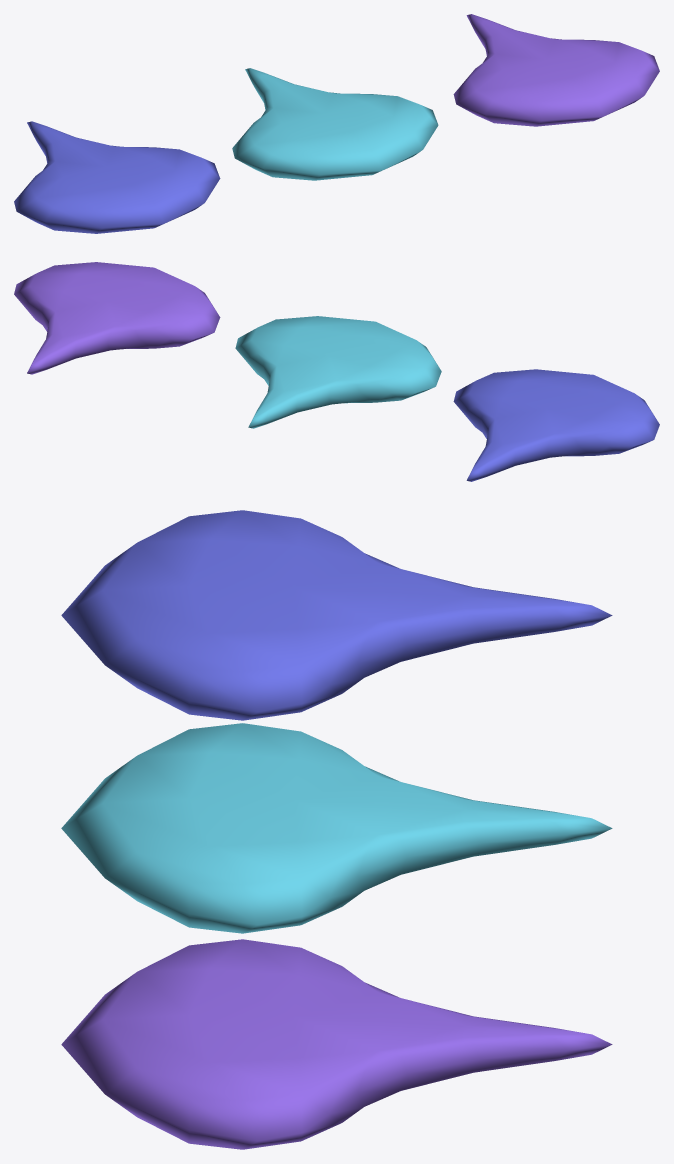
The model's file is escama.fbx.
3 views of the same model, one above another, from view 1: azimuth 30°, elevation 25°; view 2: azimuth 150°, elevation 25°; view 3: azimuth 270°, elevation 25° (orthographic). The views are drawn at different scales.
Visible parts, largest first — view 1: Escama3, Escama2, Escama1; view 2: Escama1, Escama3, Escama2; view 3: Escama3, Escama1, Escama2.
Boxes of the visible parts, x1,y1,x2,y2 form: Escama3: (232,68,438,180); Escama2: (453,14,659,126); Escama1: (14,121,220,233); Escama1: (453,369,659,481); Escama3: (235,316,441,428); Escama2: (14,262,220,374); Escama3: (61,723,612,933); Escama1: (61,510,612,720); Escama2: (61,939,612,1149).
Size of the model in its own units: 849 by 37.28 by 318.
